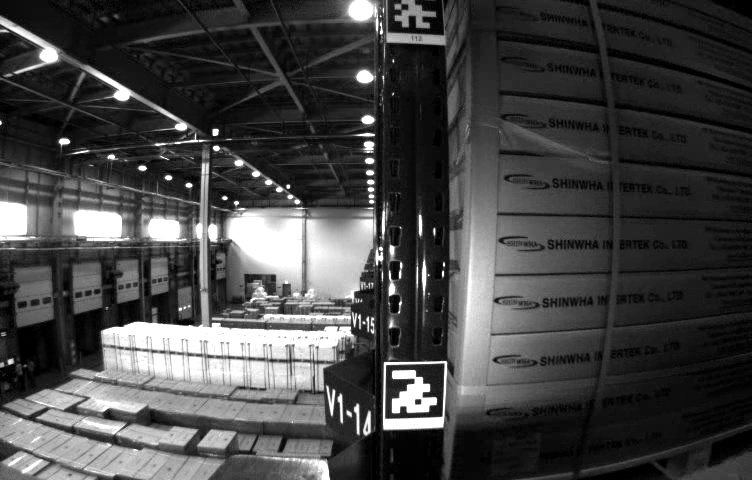True Barcode: (493, 434, 537, 477)
